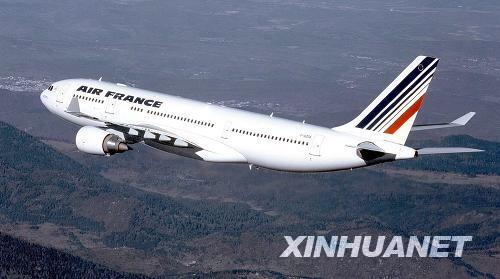airplane: (38, 53, 487, 176)
